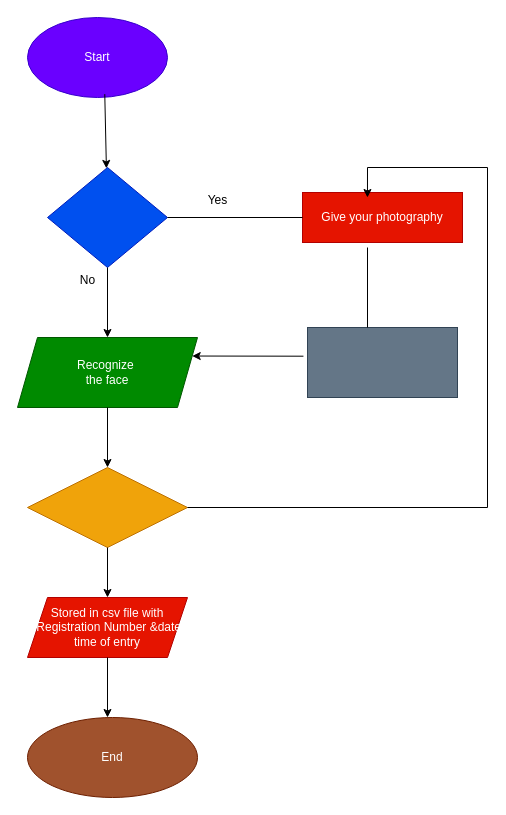
Image size: 506x815. Some labels were removed from this diagram. The box of each missing label's shape, as (x1, y1, x2, y2) in pixels:
Face Recognized: (26, 466, 188, 548)
New User?: (46, 166, 168, 268)
Store the face data in folder on your name: (306, 326, 458, 398)
